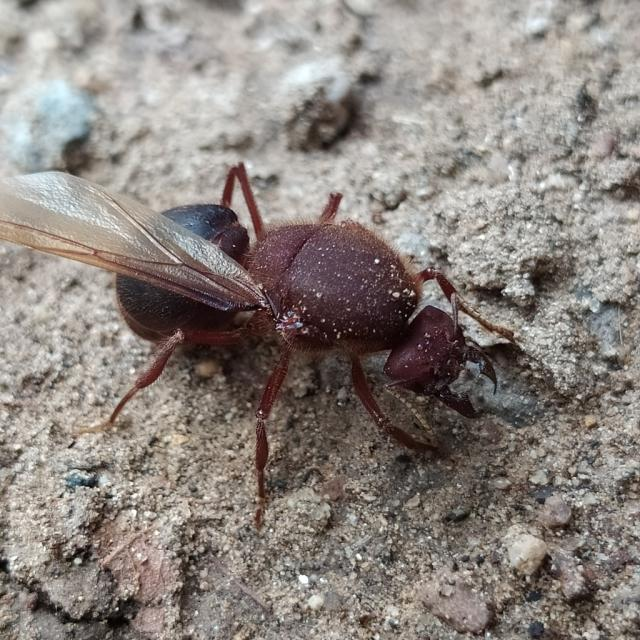Alive-Female-Alate: (0, 162, 517, 531)
